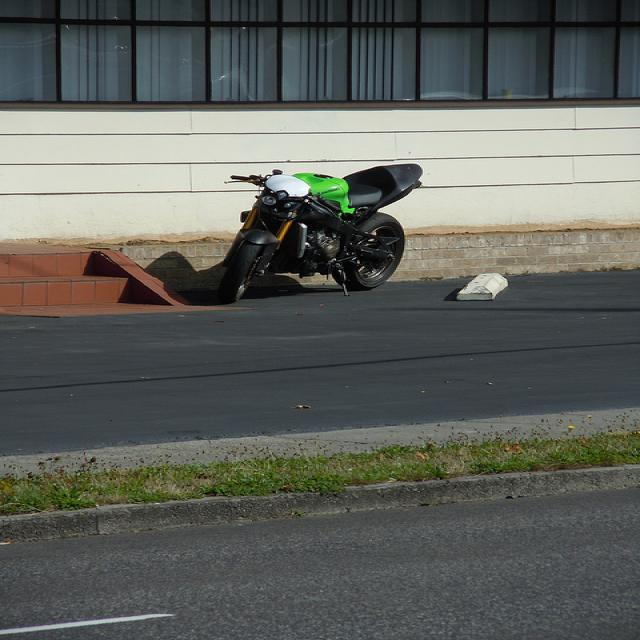motor: (215, 164, 424, 304)
